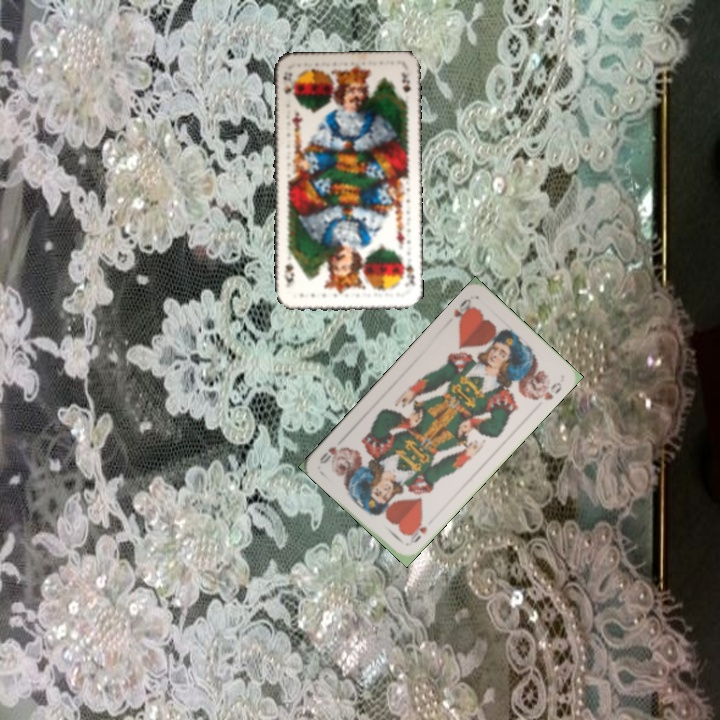HO: (450, 295, 477, 327), (404, 516, 430, 548)
SK: (398, 254, 417, 288), (279, 68, 295, 99)
